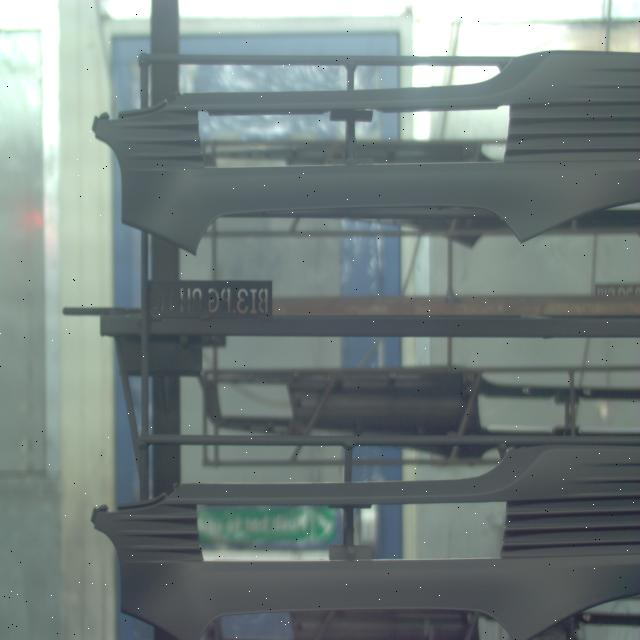Primered: (88, 51, 637, 257), (85, 436, 637, 640)
